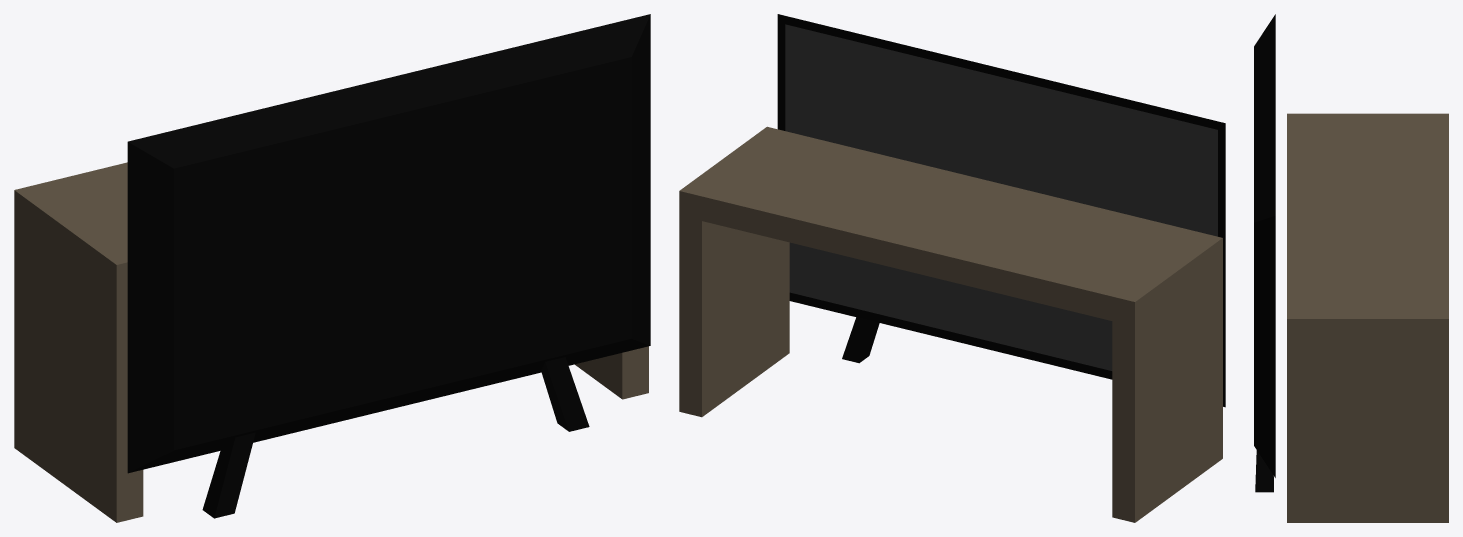
File: UnorganizedTV.fbx
3 views of the same model, side by side, from view 1: azimuth 30°, elevation 25°; view 2: azimuth 150°, elevation 25°; view 3: azimuth 270°, elevation 25° (orthographic). The views are drawn at different scales.
Visible parts, largest first — view 1: UnorganizedTV1; view 2: UnorganizedTV1; view 3: UnorganizedTV1.
Boxes of the visible parts, left/top/right/bottom form: UnorganizedTV1: left=14, top=14, right=650, bottom=522; UnorganizedTV1: left=679, top=14, right=1225, bottom=522; UnorganizedTV1: left=1254, top=14, right=1448, bottom=522.
Bounding box in the file's own units: 1.5 × 1.04 × 0.6015.
